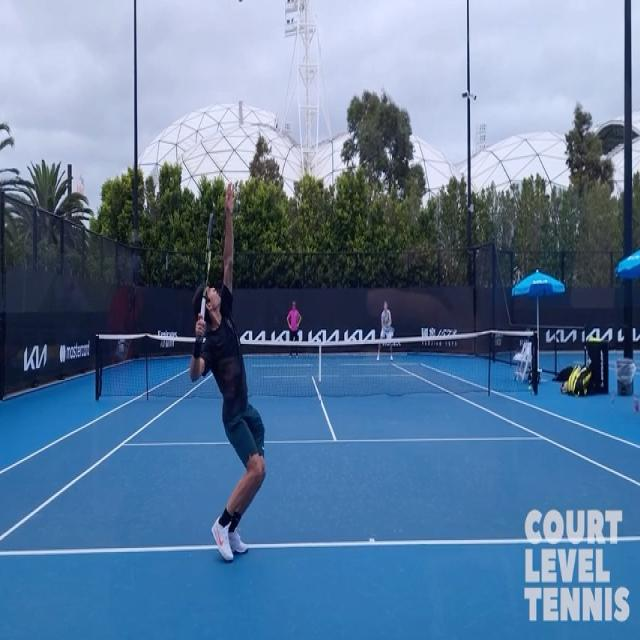serve_toss: (174, 178, 272, 580)
